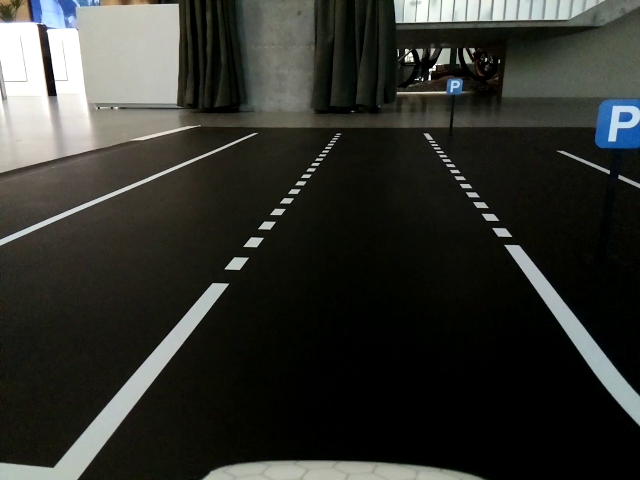park: (596, 102, 640, 147), (446, 79, 464, 96)
